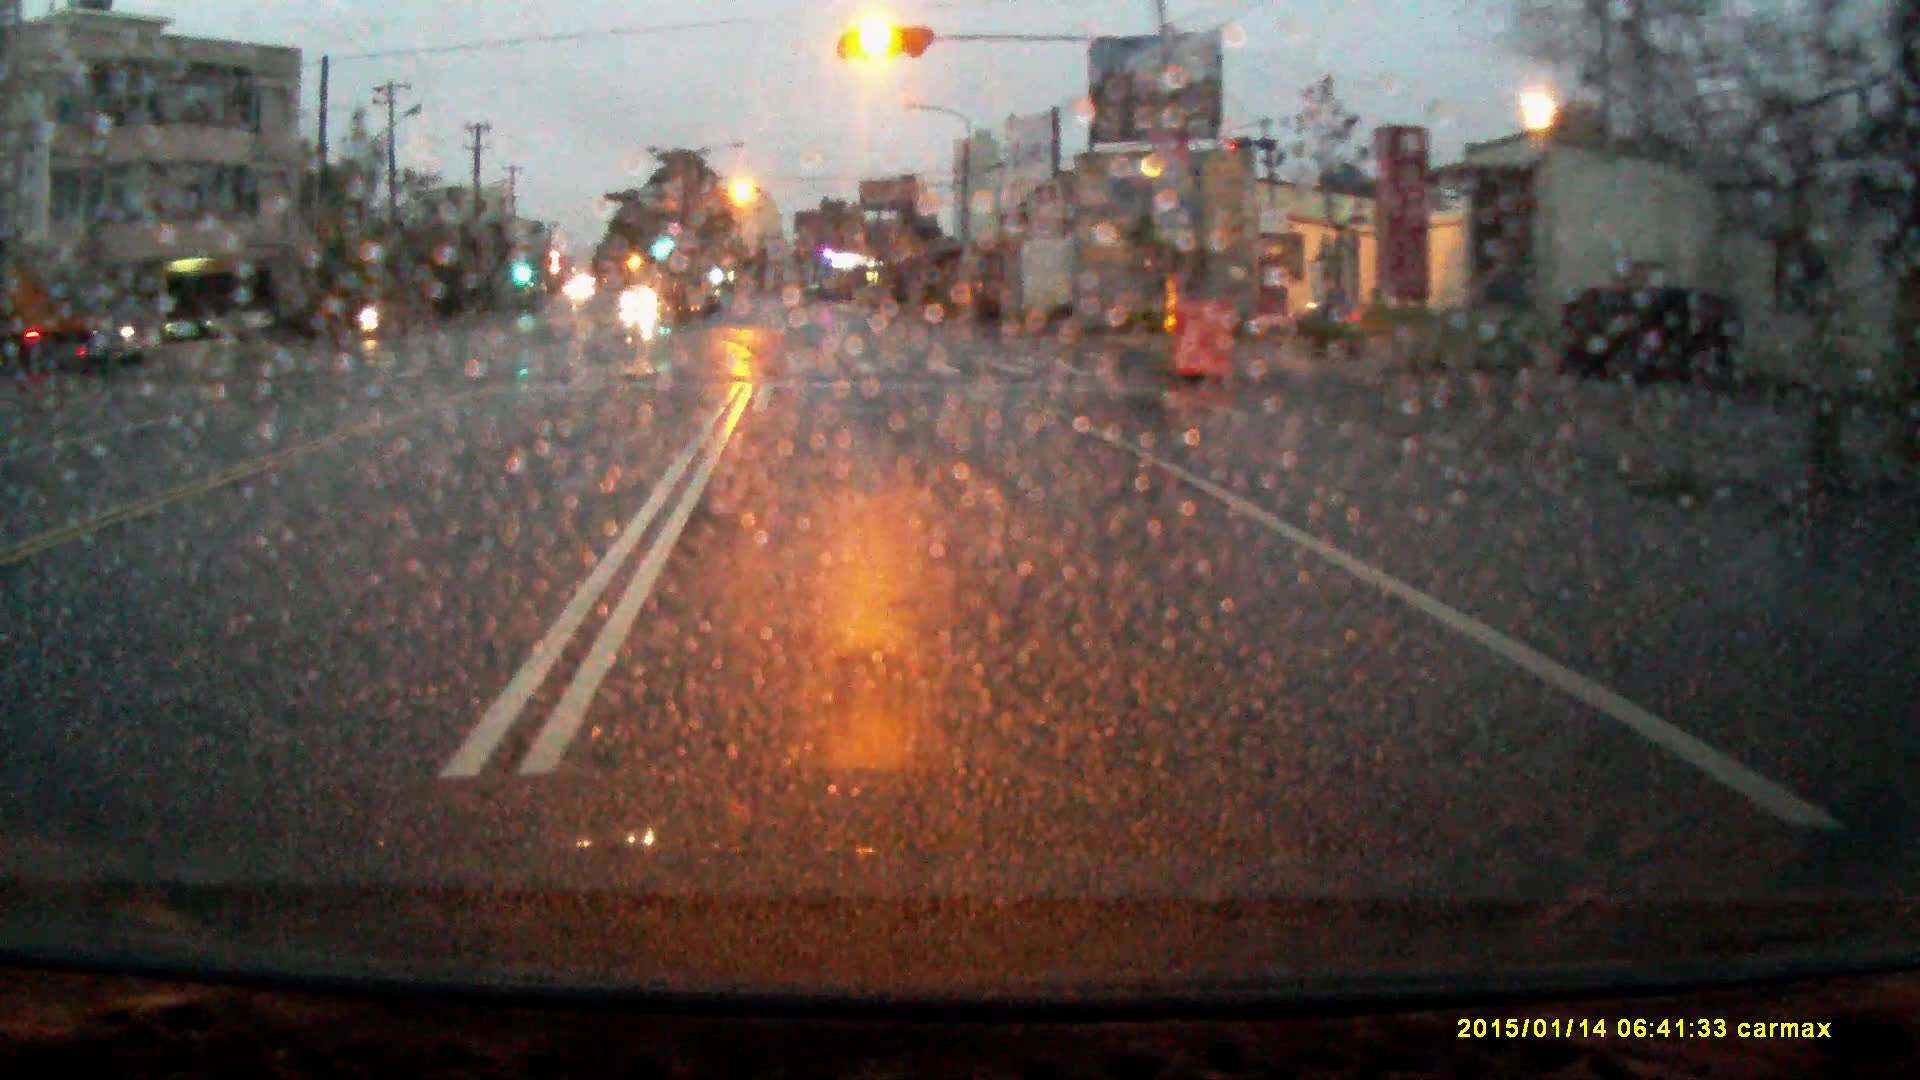rider: (357, 278, 384, 336)
vehicle: (1, 258, 95, 375), (620, 286, 660, 313)
